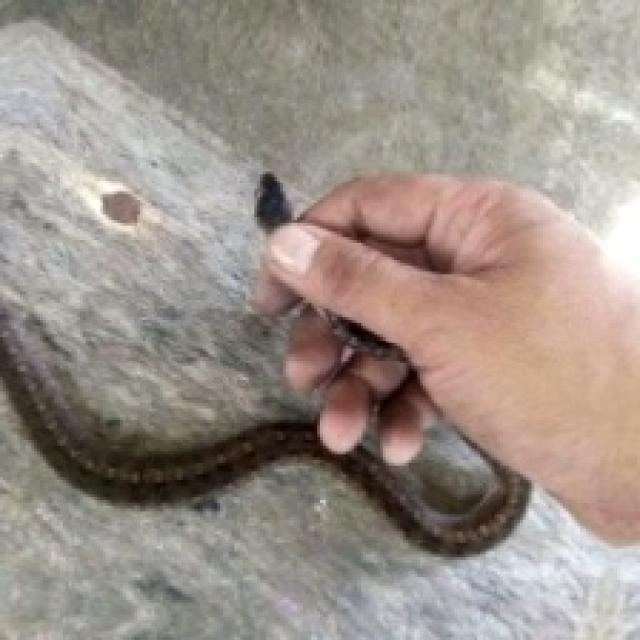boies keelback: (0, 299, 530, 556), (324, 312, 405, 359), (256, 172, 292, 231)
